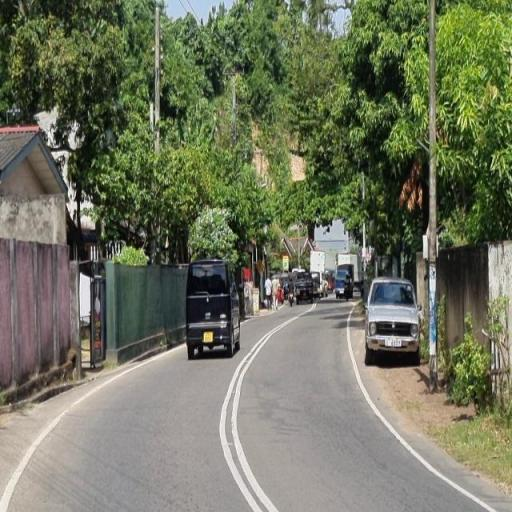double_white_line: (341, 309, 497, 511), (217, 307, 277, 512)
